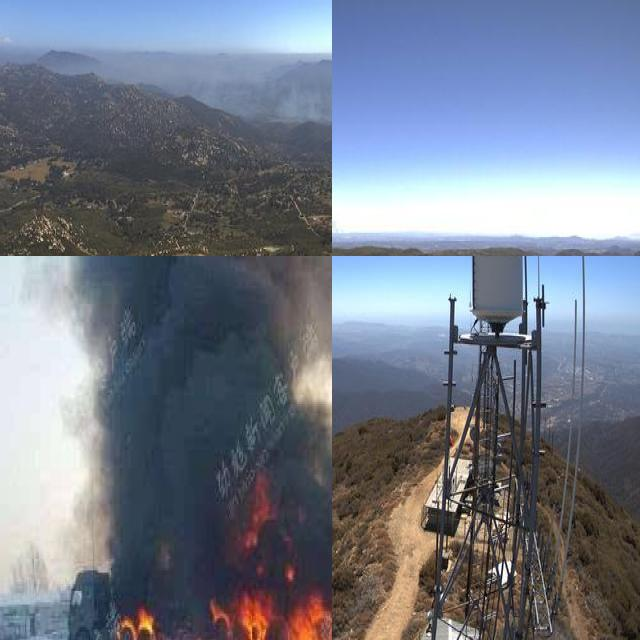fire: (209, 563, 332, 640), (116, 590, 153, 640)
smoke: (32, 256, 332, 584), (215, 65, 332, 131), (332, 209, 345, 235)
